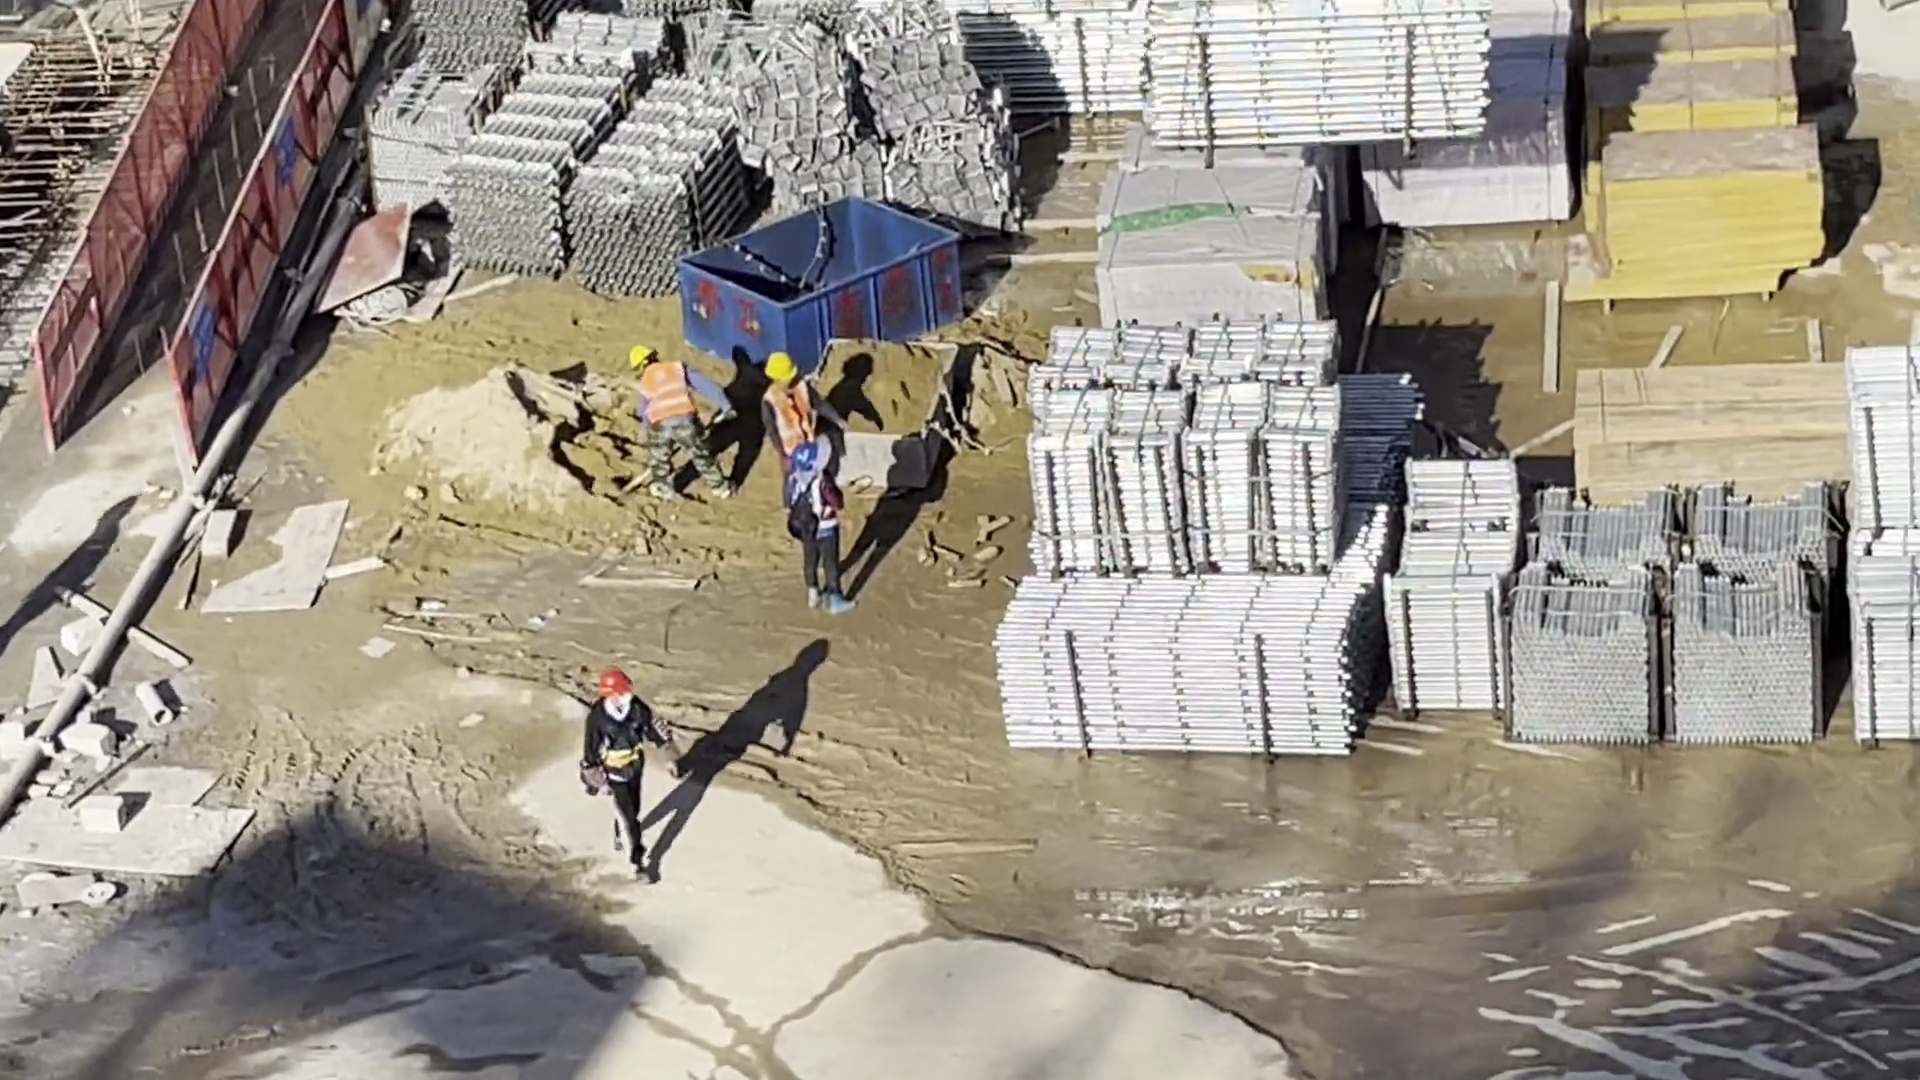board: (1575, 1, 1820, 293), (1569, 357, 1847, 495)
fence: (43, 1, 366, 456)
helmet: (598, 669, 633, 698), (765, 354, 798, 383), (631, 345, 655, 370), (794, 446, 819, 470)
hopper: (679, 195, 958, 345), (815, 334, 955, 487)
person: (583, 666, 674, 884), (631, 345, 732, 500), (790, 445, 856, 611), (762, 354, 816, 456)
scaffold: (1509, 500, 1847, 746), (1024, 323, 1344, 569), (1001, 576, 1370, 760), (454, 70, 746, 285), (1143, 4, 1493, 142), (1388, 456, 1506, 707), (1846, 357, 1920, 748), (412, 1, 559, 66)
slogan: (188, 287, 213, 377), (273, 111, 300, 184)
vest: (633, 364, 696, 423), (761, 387, 815, 443), (792, 483, 831, 534)
